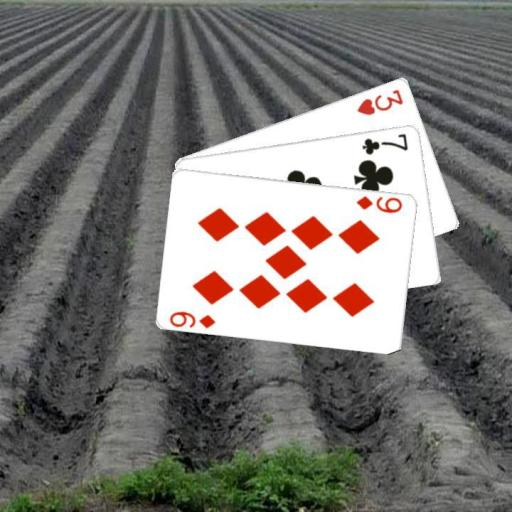3H: (354, 85, 406, 117)
7C: (359, 129, 410, 156)
9D: (354, 193, 405, 214), (167, 308, 218, 329)
